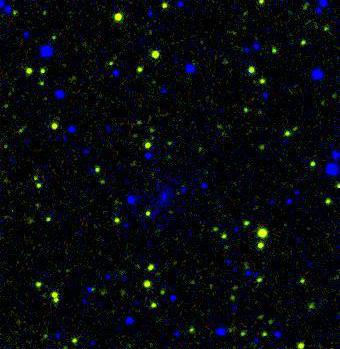star: (132, 200, 162, 230)
